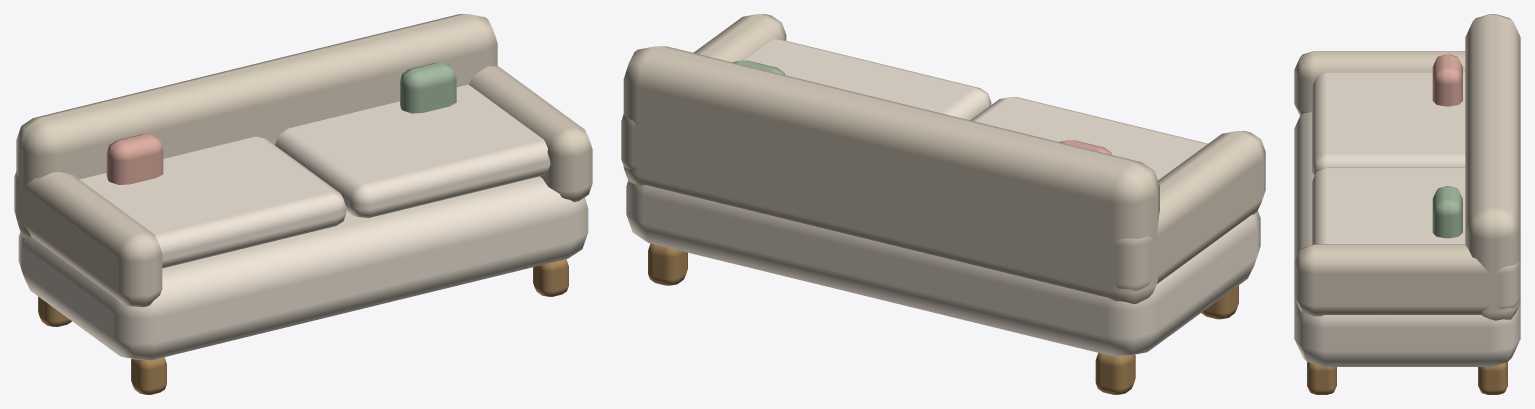
File: sofa.glb
3 views of the same model, side by side, from view 1: azimuth 30°, elevation 25°; view 2: azimuth 150°, elevation 25°; view 3: azimuth 270°, elevation 25° (orthographic). The views are drawn at different scales.
Bounding box in the file's own units: 2 × 0.84 × 0.9.
